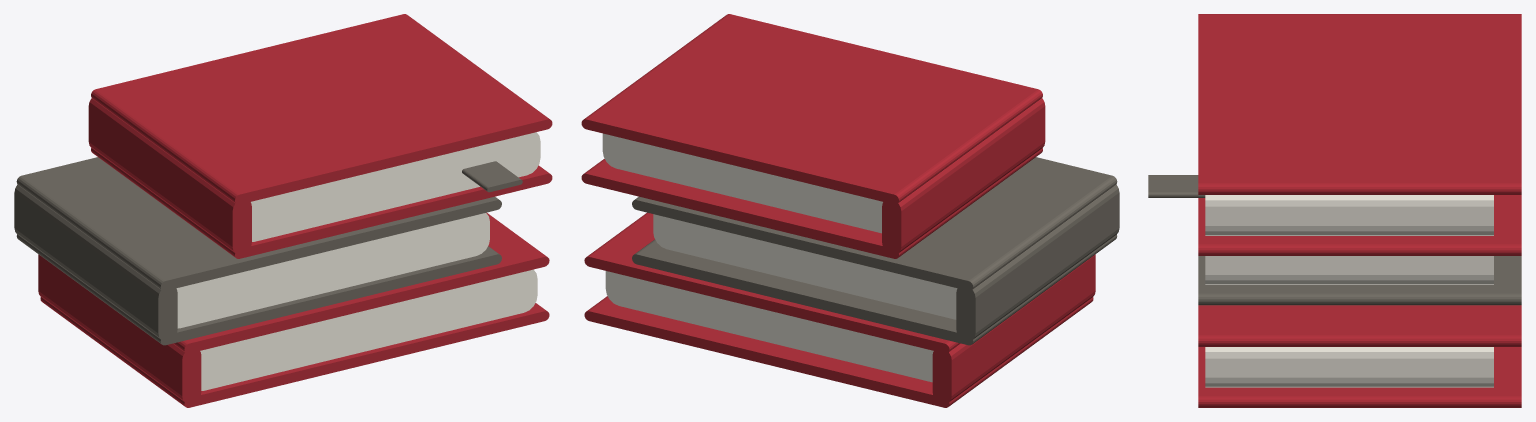
File: books.glb
3 renders of one model, left to right at view 1: azimuth 30°, elevation 25°; view 2: azimuth 150°, elevation 25°; view 3: azimuth 270°, elevation 25°, orthographic. The views are drawn at different scales.
Visible parts, largest first — view 1: cover 2 0.175, cover 1 0.175, pages 0, pages 1, pages 2, spine 2, spine 1, spine 0, cover 0 0.175, cover 0 0, cover 1 0, cover 2 0 (+1 smaller); view 2: cover 2 0.175, cover 1 0.175, pages 0, pages 1, pages 2, cover 0 0, spine 1, cover 1 0, spine 2, cover 2 0, spine 0, cover 0 0.175; view 3: cover 2 0.175, cover 0 0.175, pages 0, pages 2, pages 1, cover 0 0, cover 2 0, cover 1 0, ribbon.
Boxes of the visible parts, left/top/right/bottom form: cover 2 0.175: left=91, top=14, right=552, bottom=204; cover 1 0.175: left=16, top=157, right=501, bottom=290; pages 0: left=200, top=269, right=537, bottom=390; pages 1: left=176, top=213, right=489, bottom=328; pages 2: left=251, top=132, right=540, bottom=241; spine 2: left=88, top=98, right=251, bottom=254; spine 1: left=14, top=184, right=177, bottom=341; spine 0: left=38, top=254, right=201, bottom=403; cover 0 0.175: left=173, top=212, right=549, bottom=353; cover 0 0: left=40, top=297, right=549, bottom=407; cover 1 0: left=16, top=234, right=501, bottom=345; cover 2 0: left=91, top=148, right=552, bottom=258; cover 2 0.175: left=581, top=14, right=1042, bottom=204; cover 1 0.175: left=632, top=157, right=1117, bottom=290; pages 0: left=605, top=271, right=933, bottom=382; pages 1: left=653, top=214, right=957, bottom=319; pages 2: left=602, top=133, right=882, bottom=233; cover 0 0: left=584, top=296, right=1093, bottom=407; spine 1: left=956, top=184, right=1119, bottom=341; cover 1 0: left=632, top=234, right=1117, bottom=345; spine 2: left=882, top=98, right=1045, bottom=254; cover 2 0: left=581, top=148, right=1042, bottom=258; spine 0: left=932, top=254, right=1095, bottom=403; cover 0 0.175: left=584, top=212, right=960, bottom=353; cover 2 0.175: left=1198, top=14, right=1521, bottom=194; cover 0 0.175: left=1198, top=305, right=1521, bottom=346; pages 0: left=1205, top=347, right=1493, bottom=387; pages 2: left=1205, top=195, right=1493, bottom=235; pages 1: left=1205, top=256, right=1493, bottom=284; cover 0 0: left=1198, top=347, right=1521, bottom=407; cover 2 0: left=1198, top=195, right=1521, bottom=255; cover 1 0: left=1198, top=256, right=1521, bottom=305; ribbon: left=1148, top=175, right=1205, bottom=197.
Bounding box in the file's own units: 1.33 × 0.647 × 0.97.
